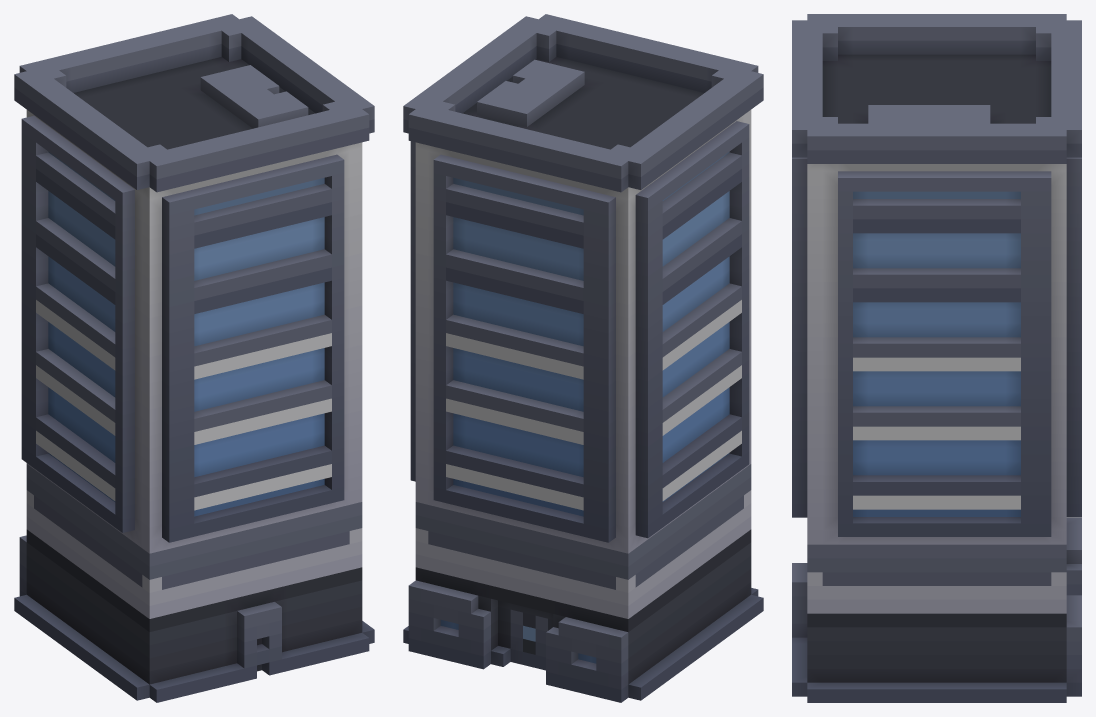
The model's file is skyscraper_a.glb.
The picture shows the model from 3 angles, left to right: view 1: azimuth 30°, elevation 25°; view 2: azimuth 150°, elevation 25°; view 3: azimuth 270°, elevation 25°; orthographic projection. The views are drawn at different scales.
Visible parts, largest first — view 1: voxels; view 2: voxels; view 3: voxels.
Part boxes in pixels (x1=…): voxels: x1=14, y1=14, x2=374, y2=702; voxels: x1=403, y1=14, x2=763, y2=702; voxels: x1=792, y1=14, x2=1081, y2=702.
Size of the model in its own units: 1.37 by 2.95 by 1.37.
